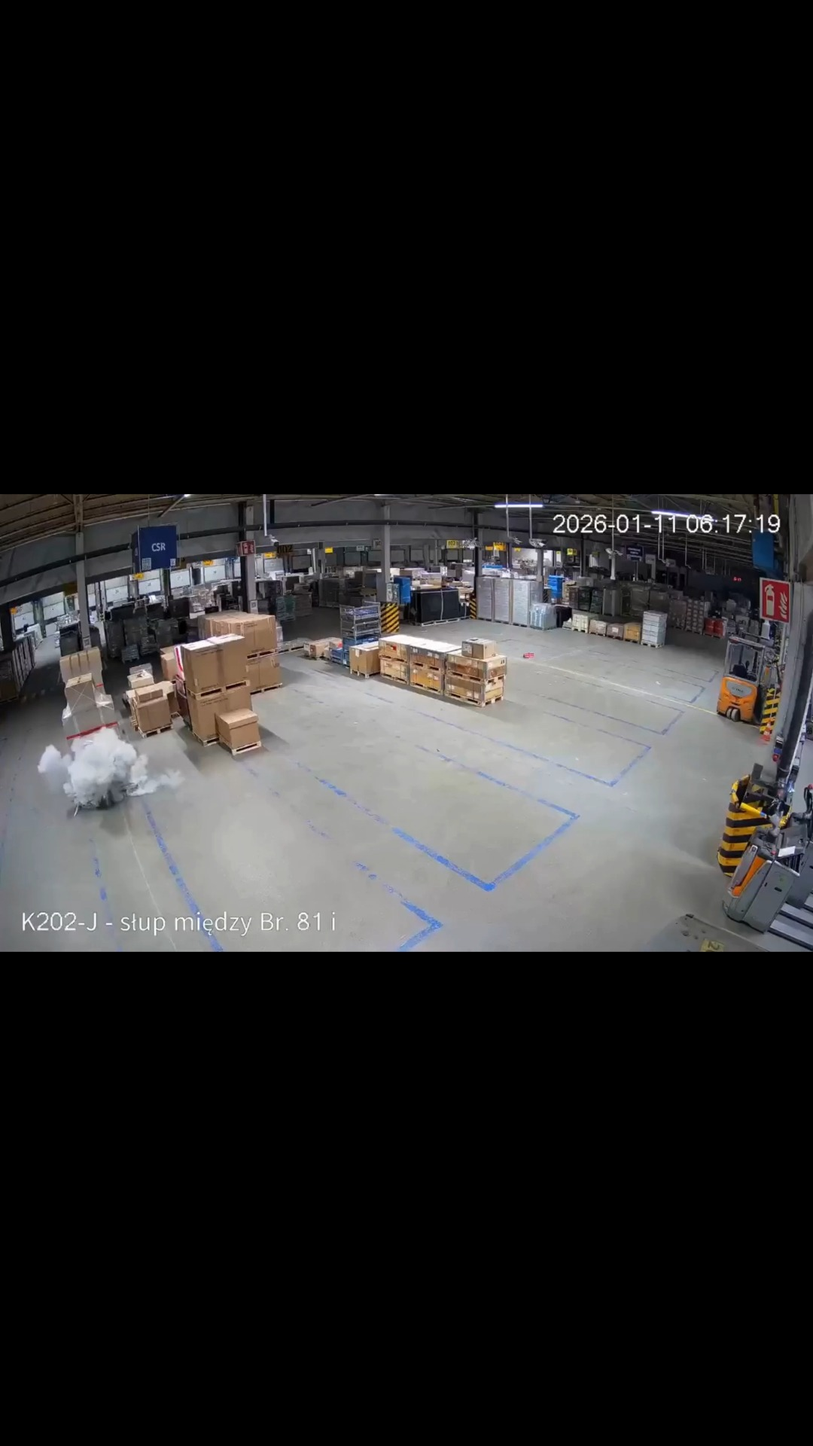smoke: (53, 724, 163, 808)
